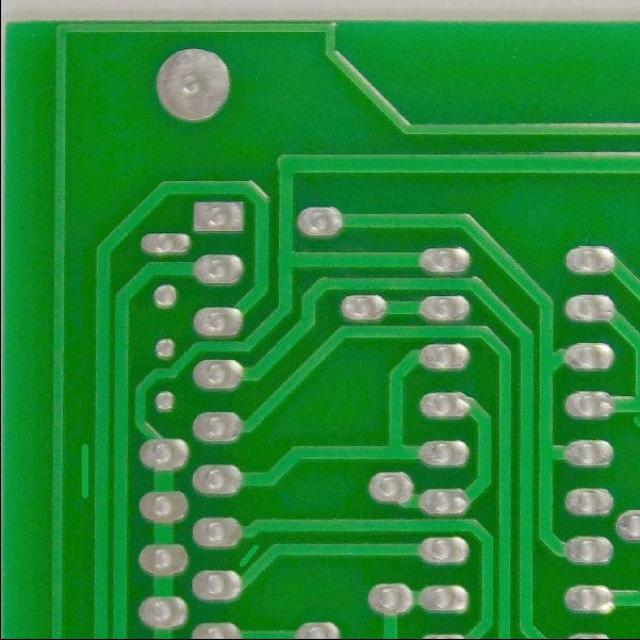spurious_copper: (66, 439, 94, 506), (231, 533, 264, 573)
